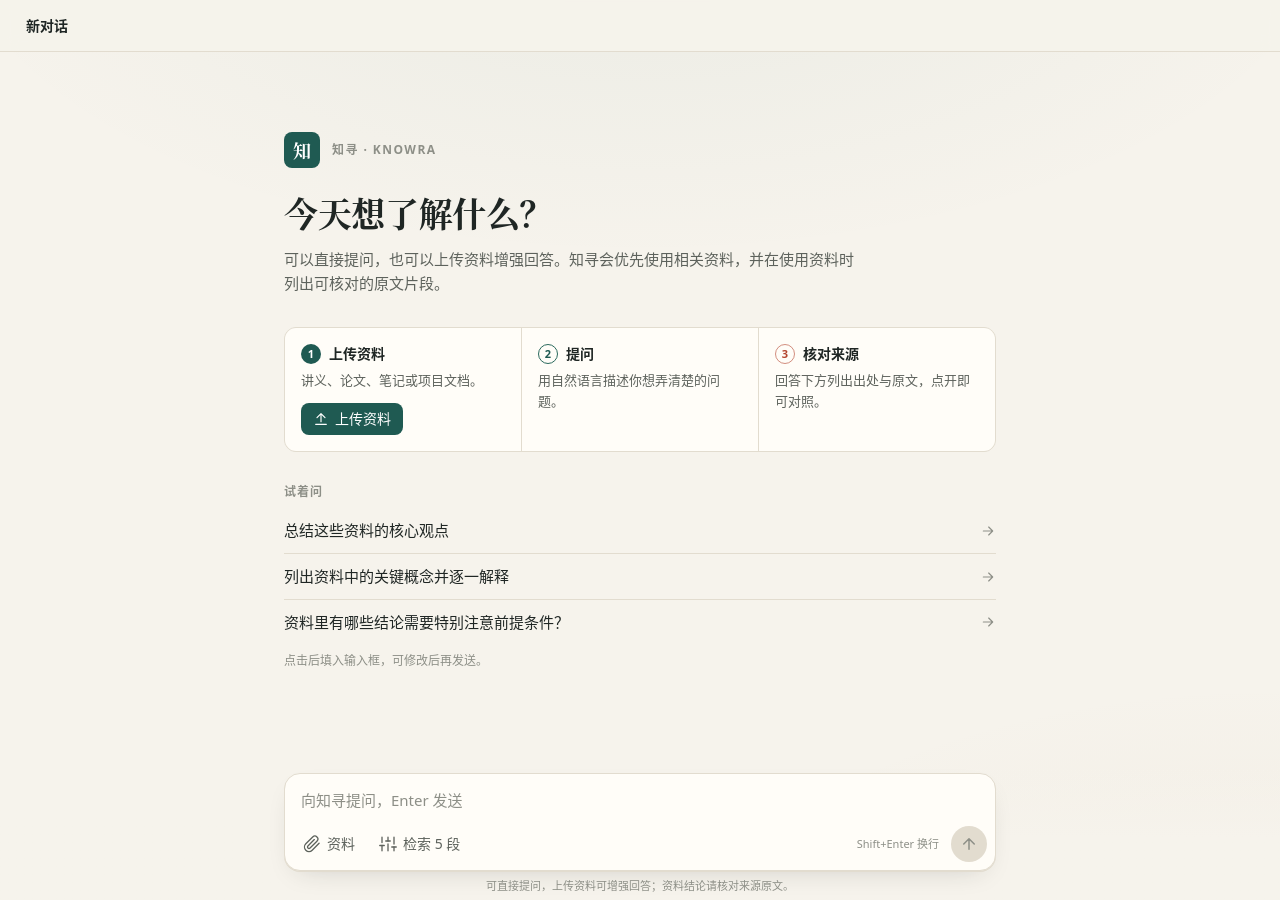
Test: ChatArea 流式回答 › 连接中断后保留已有正文和来源并恢复输入
In the text box with test id "chat-input": (640, 800) [285,774,995,826], type "什么是特征值"
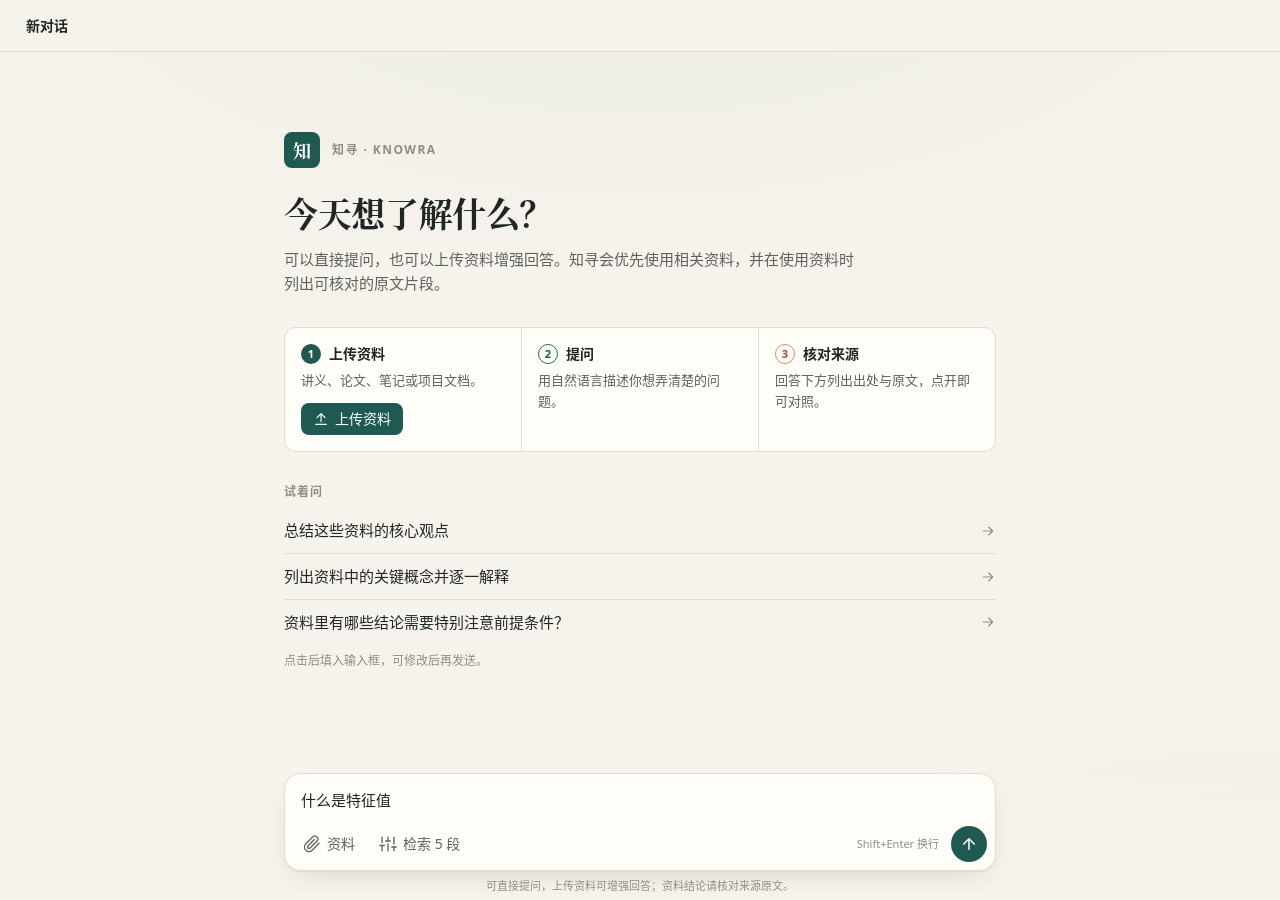
Press Enter in the text box with test id "chat-input", box [285,774,995,826]
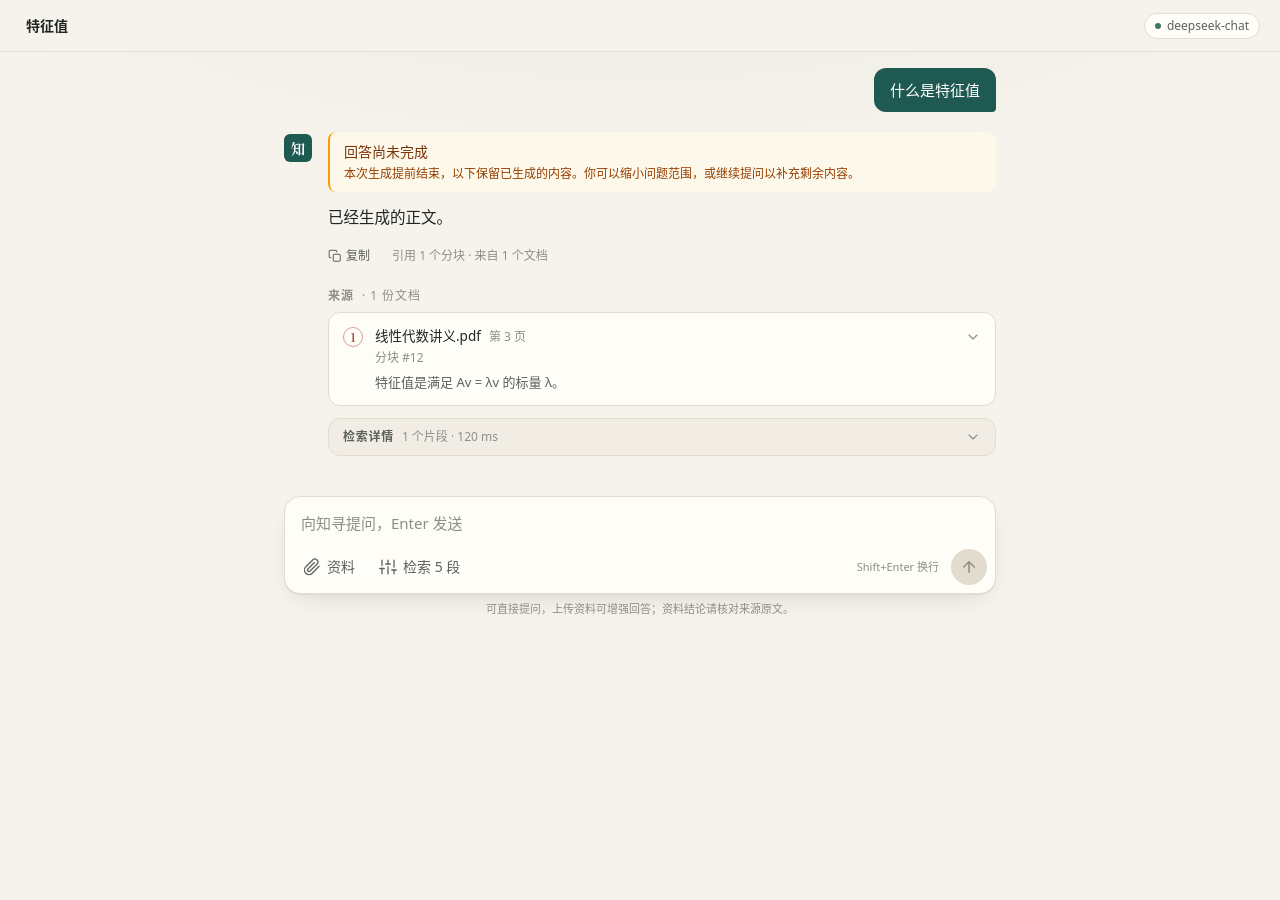
Expected: the element with test id "answer-content" shows "已经生成的正文", [328,206,452,228]
Expected: the element with test id "source-list" is shown, [328,288,996,406]
Expected: the message with test id "answer-incomplete" shows "回答尚未完成", [344,142,428,161]
In the text box with test id "chat-input": (640, 523) [285,497,995,549], type "继续解释特征值"
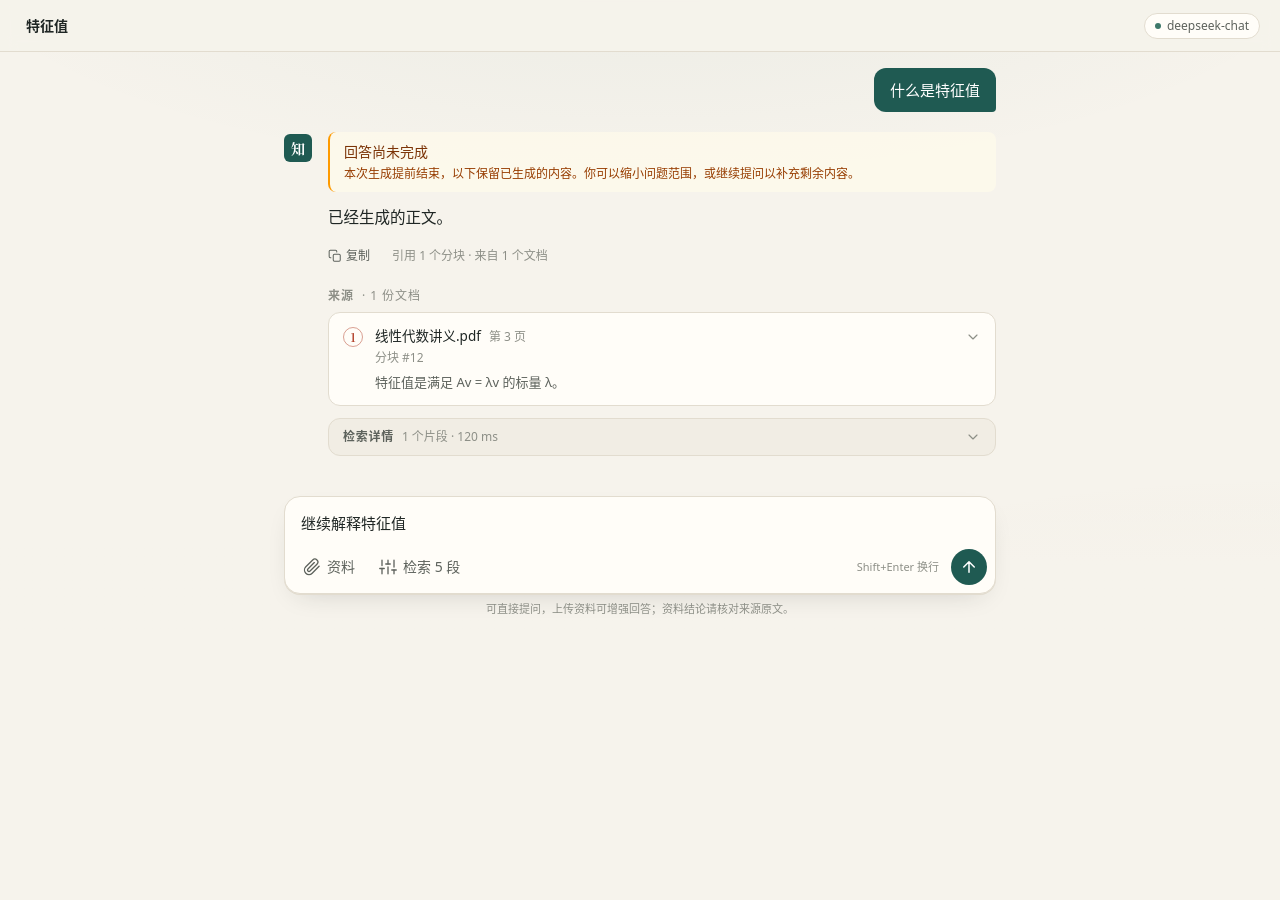
Expected: the button with test id "send-button" is enabled, [951,549,987,585]
